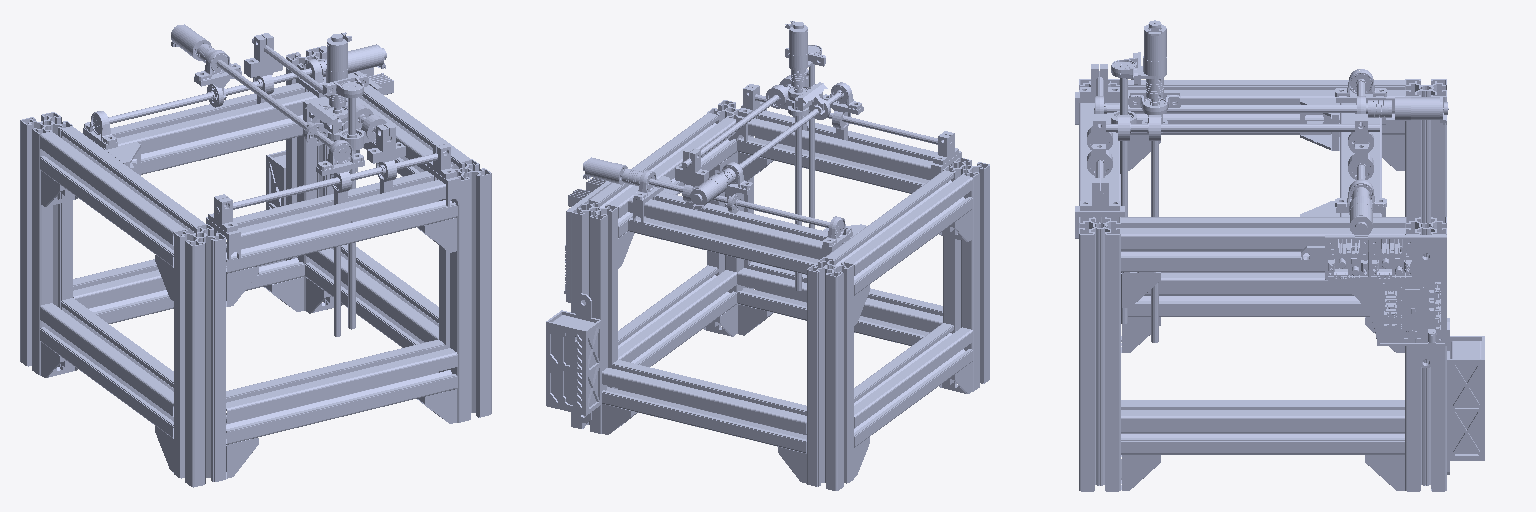
The robot description file, URDF, robot "URDF.SLDASM":
<?xml version="1.0" encoding="utf-8"?>
<!-- This URDF was automatically created by SolidWorks to URDF Exporter! Originally created by [author] ([email redacted]) 
     Commit Version: 1.6.0-4-g7f85cfe  Build Version: 1.6.7995.38578
     For more information, please see http://wiki.ros.org/sw_urdf_exporter -->
<robot
  name="URDF.SLDASM">
  <link
    name="Link_Base">
    <inertial>
      <origin
        xyz="0.0114159508946672 0.175577206152015 0.00188434605031392"
        rpy="0 0 0" />
      <mass
        value="8.67596987352087" />
      <inertia
        ixx="0.299819303764689"
        ixy="-0.00525325844755418"
        ixz="0.0119696542324205"
        iyy="0.372411485126987"
        iyz="-0.010467275298787"
        izz="0.30471576885987" />
    </inertial>
    <visual>
      <origin
        xyz="0 0 0"
        rpy="0 0 0" />
      <geometry>
        <mesh
          filename="package://URDF.SLDASM/meshes/Link_Base.STL" />
      </geometry>
      <material
        name="">
        <color
          rgba="0.792156862745098 0.819607843137255 0.933333333333333 1" />
      </material>
    </visual>
    <collision>
      <origin
        xyz="0 0 0"
        rpy="0 0 0" />
      <geometry>
        <mesh
          filename="package://URDF.SLDASM/meshes/Link_Base.STL" />
      </geometry>
    </collision>
  </link>
  <link
    name="Link_X">
    <inertial>
      <origin
        xyz="-0.00188434605031393 0.175577206152015 0.0288296448289109"
        rpy="0 0 0" />
      <mass
        value="8.67596987352087" />
      <inertia
        ixx="0.30471576885987"
        ixy="0.010467275298787"
        ixz="-0.0119696542324205"
        iyy="0.372411485126987"
        iyz="-0.00525325844755414"
        izz="0.299819303764689" />
    </inertial>
    <visual>
      <origin
        xyz="0 0 0"
        rpy="0 0 0" />
      <geometry>
        <mesh
          filename="package://URDF.SLDASM/meshes/Link_X.STL" />
      </geometry>
      <material
        name="">
        <color
          rgba="0.792156862745098 0.819607843137255 0.933333333333333 1" />
      </material>
    </visual>
    <collision>
      <origin
        xyz="0 0 0"
        rpy="0 0 0" />
      <geometry>
        <mesh
          filename="package://URDF.SLDASM/meshes/Link_X.STL" />
      </geometry>
    </collision>
  </link>
  <joint
    name="J1"
    type="prismatic">
    <origin
      xyz="-0.017414 0 0"
      rpy="1.5708 0 1.5708" />
    <parent
      link="Link_Base" />
    <child
      link="Link_X" />
    <axis
      xyz="0 0 1" />
    <limit
      lower="0"
      upper="0"
      effort="0"
      velocity="0" />
    <dynamics
      damping="0.01"
      friction="0.01" />
  </joint>
  <link
    name="Link_Z">
    <inertial>
      <origin
        xyz="0.0850555171017934 0.175577206152015 0.00991818358297185"
        rpy="0 0 0" />
      <mass
        value="8.67596987352087" />
      <inertia
        ixx="0.30471576885987"
        ixy="0.010467275298787"
        ixz="-0.0119696542324205"
        iyy="0.372411485126987"
        iyz="-0.00525325844755414"
        izz="0.299819303764689" />
    </inertial>
    <visual>
      <origin
        xyz="0 0 0"
        rpy="0 0 0" />
      <geometry>
        <mesh
          filename="package://URDF.SLDASM/meshes/Link_Z.STL" />
      </geometry>
      <material
        name="">
        <color
          rgba="0.792156862745098 0.819607843137255 0.933333333333333 1" />
      </material>
    </visual>
    <collision>
      <origin
        xyz="0 0 0"
        rpy="0 0 0" />
      <geometry>
        <mesh
          filename="package://URDF.SLDASM/meshes/Link_Z.STL" />
      </geometry>
    </collision>
  </link>
  <joint
    name="J2"
    type="prismatic">
    <origin
      xyz="-0.08694 0 0.018911"
      rpy="0 0 0" />
    <parent
      link="Link_X" />
    <child
      link="Link_Z" />
    <axis
      xyz="1 0 0" />
    <limit
      lower="0"
      upper="0"
      effort="0"
      velocity="0" />
    <dynamics
      damping="0.01"
      friction="0.01" />
  </joint>
  <link
    name="Link_Y">
    <inertial>
      <origin
        xyz="0.0565709384857237 0.073229775350901 0.00991818358297399"
        rpy="0 0 0" />
      <mass
        value="8.67596987352087" />
      <inertia
        ixx="0.30471576885987"
        ixy="0.0104672752987869"
        ixz="-0.0119696542324205"
        iyy="0.372411485126987"
        iyz="-0.00525325844755413"
        izz="0.299819303764689" />
    </inertial>
    <visual>
      <origin
        xyz="0 0 0"
        rpy="0 0 0" />
      <geometry>
        <mesh
          filename="package://URDF.SLDASM/meshes/Link_Y.STL" />
      </geometry>
      <material
        name="">
        <color
          rgba="0.792156862745098 0.819607843137255 0.933333333333333 1" />
      </material>
    </visual>
    <collision>
      <origin
        xyz="0 0 0"
        rpy="0 0 0" />
      <geometry>
        <mesh
          filename="package://URDF.SLDASM/meshes/Link_Y.STL" />
      </geometry>
    </collision>
  </link>
  <joint
    name="J3"
    type="prismatic">
    <origin
      xyz="0.028485 0.10235 0"
      rpy="0 0 0" />
    <parent
      link="Link_Z" />
    <child
      link="Link_Y" />
    <axis
      xyz="0 1 0" />
    <limit
      lower="0"
      upper="0"
      effort="0"
      velocity="0" />
    <dynamics
      damping="0.01"
      friction="0.01" />
  </joint>
</robot>

--- Facts derived from the render (not from the file) ---
3 views of the same robot in one strip: view 1: azimuth 30°, elevation 25°; view 2: azimuth 150°, elevation 25°; view 3: azimuth 270°, elevation 25° (orthographic).
Robot: URDF.SLDASM — 4 links, 3 joints (3 prismatic); root link Link_Base; default pose: every joint at zero.
Links seen in each view (by area): view 1: Link_Base, Link_X, Link_Y, Link_Z; view 2: Link_Base, Link_X, Link_Y, Link_Z; view 3: Link_Base, Link_X, Link_Y, Link_Z.
Boxes of the visible links, x1,y1,x2,y2 form: Link_Base: [20, 44, 491, 487]; Link_X: [171, 24, 405, 204]; Link_Y: [323, 32, 368, 336]; Link_Z: [304, 102, 386, 150]; Link_Base: [546, 84, 989, 490]; Link_X: [675, 69, 863, 213]; Link_Y: [785, 21, 825, 290]; Link_Z: [766, 75, 830, 119]; Link_Base: [1075, 64, 1484, 491]; Link_X: [1087, 96, 1448, 179]; Link_Y: [1111, 20, 1166, 342]; Link_Z: [1111, 91, 1180, 140].
Size in the robot's own frame: 0.4218 by 0.4344 by 0.4751 metres.
4 mesh visuals loaded from 4 distinct referenced files (4 binary STL).